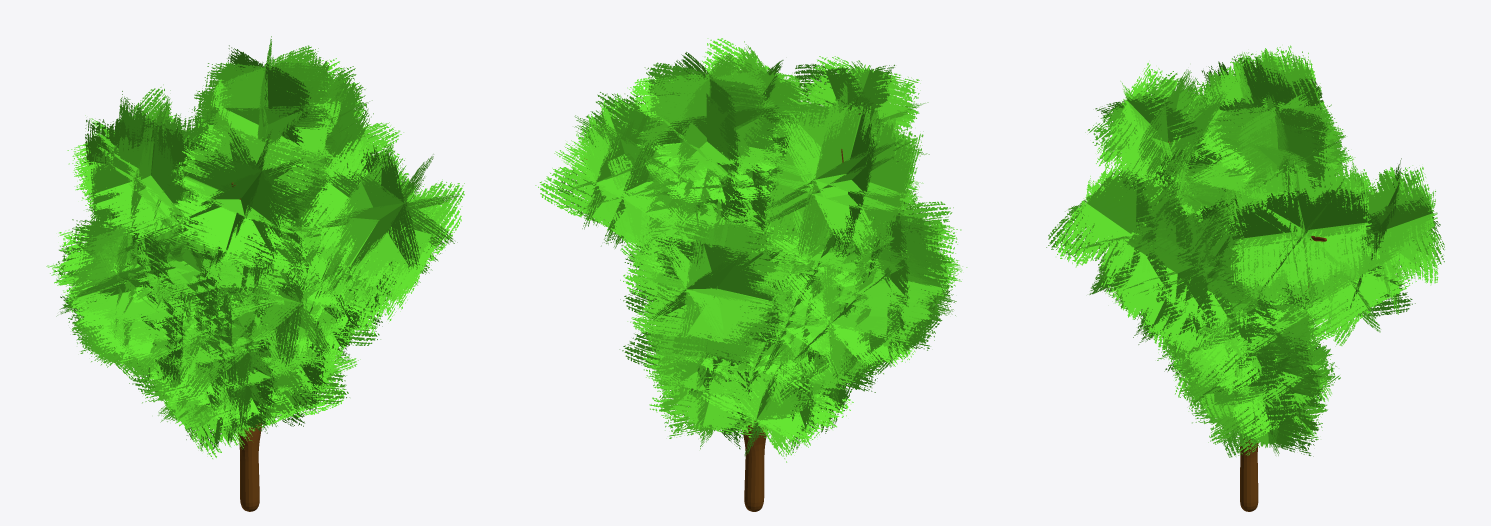
The model's file is New_tree.fbx.
3 views of the same model, side by side, from view 1: azimuth 30°, elevation 25°; view 2: azimuth 150°, elevation 25°; view 3: azimuth 270°, elevation 25° (orthographic). The views are drawn at different scales.
Visible parts, largest first — view 1: Plane.033, Trunk; view 2: Plane.033, Trunk; view 3: Plane.033, Trunk.
Boxes of the visible parts, x1,y1,x2,y2 form: Plane.033: (46, 36, 464, 458); Trunk: (231, 182, 262, 511); Plane.033: (535, 38, 967, 462); Trunk: (582, 114, 859, 511); Plane.033: (1046, 45, 1444, 457); Trunk: (1168, 141, 1326, 511).
Bounding box in the file's own units: 357 × 398 × 366.
